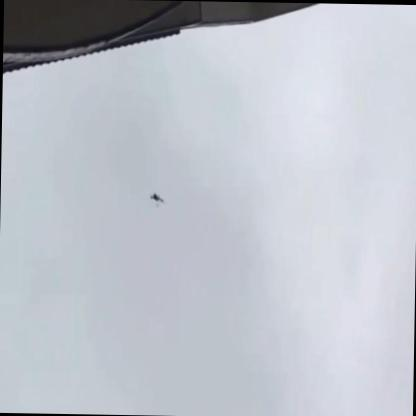drone: (149, 192, 163, 202)
